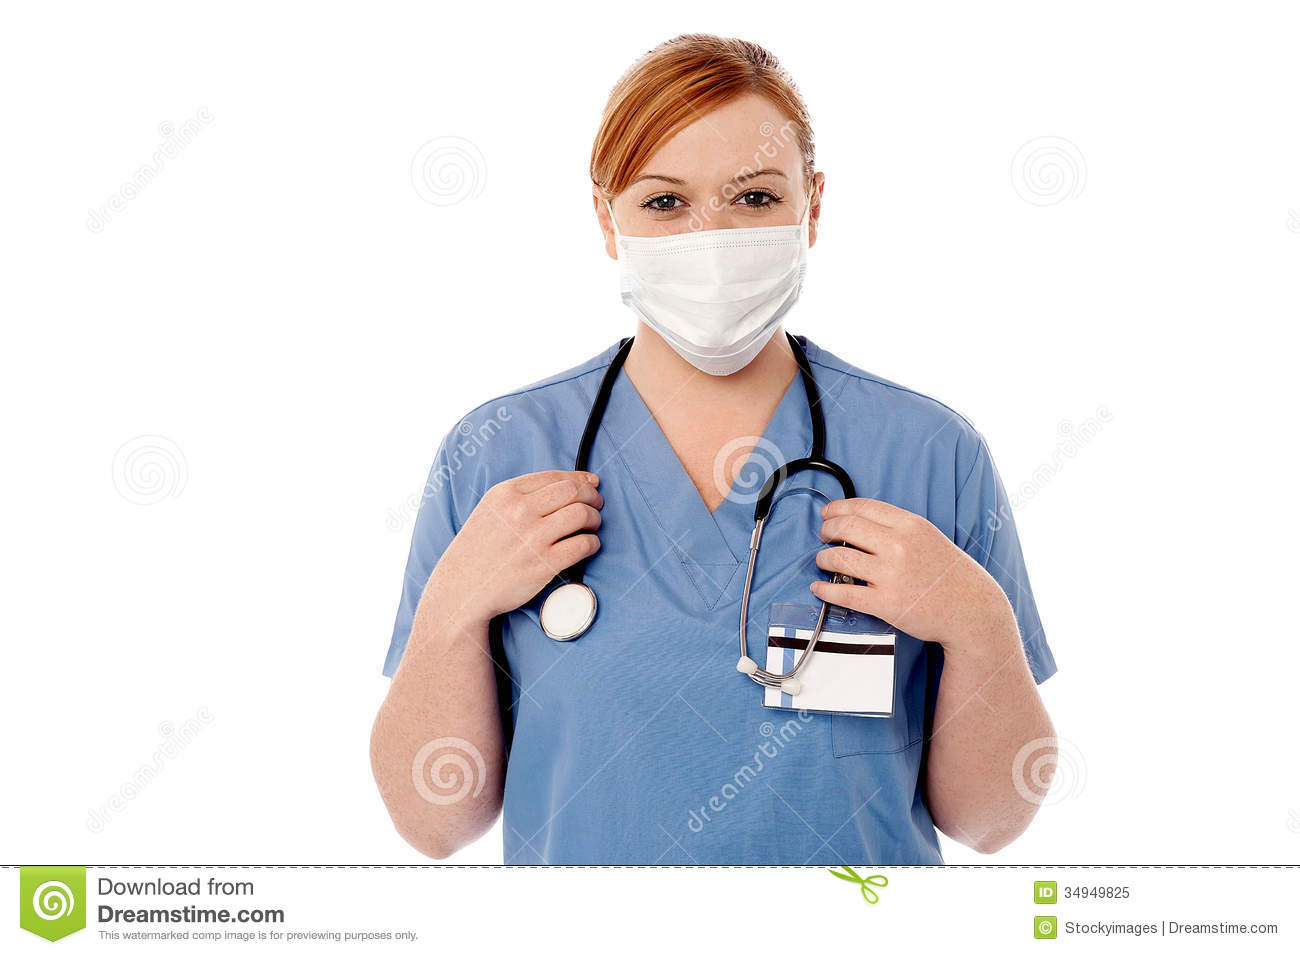mask: (611, 229, 820, 381)
